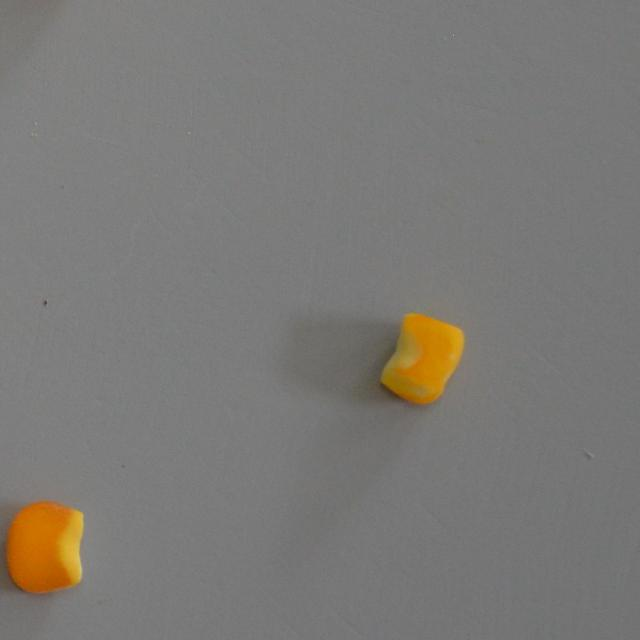no_canjicado: (377, 310, 466, 406), (6, 501, 84, 594)
